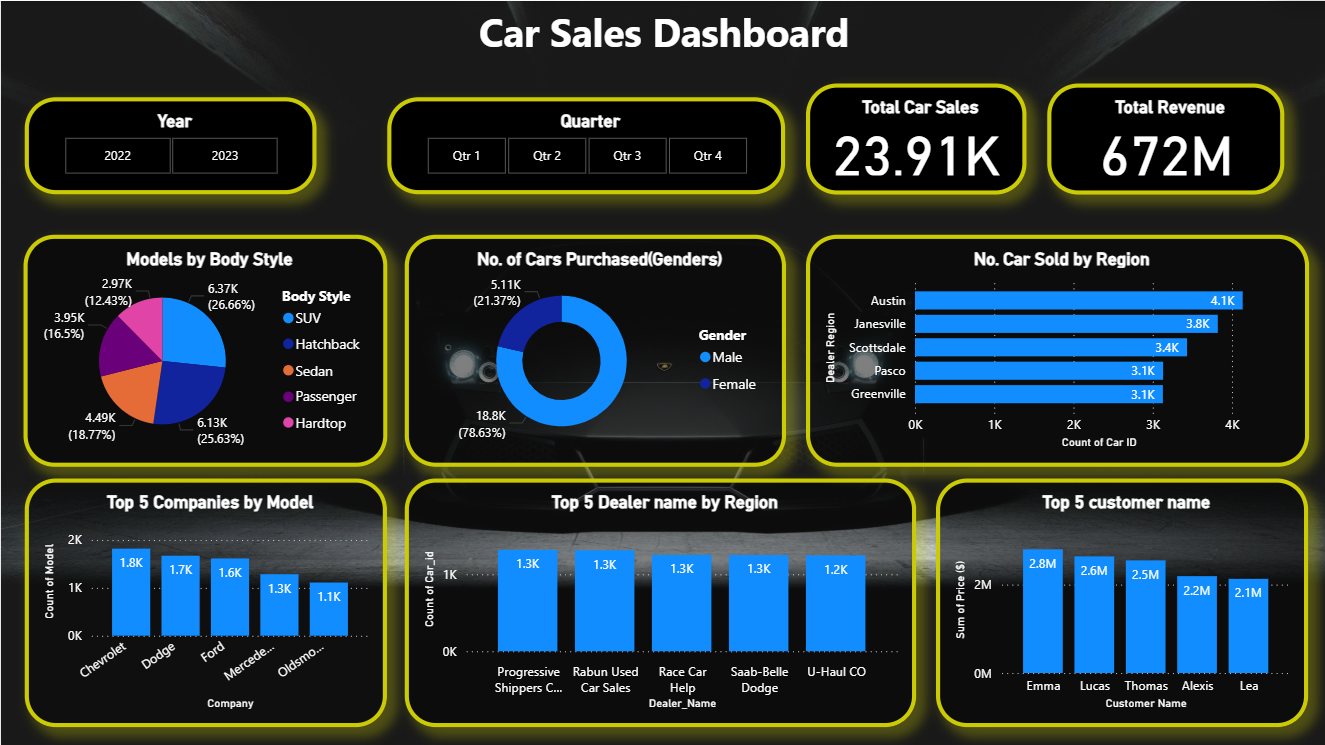

The page's visual inventory and layout, read from the dashboard file:
{"tool":"powerbi","page":{"name":"Page 1","canvas":[1280,720],"ordinal":0},"visuals":[{"type":"slicer","title":"Year","fields":{"Values":["car_data.Date.Variation.Date Hierarchy.Year"]},"box":[23.3,93.3,281.3,93.3],"z":0},{"type":"slicer","title":"Quarter","fields":{"Values":["car_data.Date.Variation.Date Hierarchy.Quarter"]},"box":[373.2,93.3,384.2,93.3],"z":1000},{"type":"pieChart","title":"Models by Body Style","fields":{"Category":["car_data.Body Style"],"Y":["car_data.Model"]},"box":[22,225,351.3,223.7],"z":2000},{"type":"donutChart","title":"No. of Cars Purchased(Genders)","fields":{"Category":["car_data.Gender"],"Y":["car_data.Gender"]},"box":[389.7,225,367.8,223.7],"z":3000},{"type":"clusteredColumnChart","title":"Top 5 Companies by Model","fields":{"Category":["car_data.Company"],"Y":["car_data.Model"]},"box":[23.3,461.1,349.9,240.1],"z":4000},{"type":"clusteredColumnChart","title":"Top 5 Dealer name by Region","fields":{"Category":["car_data.Dealer_Name"],"Y":["car_data.Car_id"]},"box":[389.7,461.1,494,240.1],"z":5000},{"type":"card","title":"Total Revenue","fields":{"Values":["car_data.Price ($)"]},"box":[1010,79.6,229.2,107],"z":6000},{"type":"card","title":"Total Car Sales","fields":{"Values":["car_data.Car_id"]},"box":[776.7,79.6,212.7,107],"z":7000},{"type":"barChart","title":"No. Car Sold by Region","fields":{"Category":["car_data.Dealer_Region"],"Y":["car_data.Car_id"]},"box":[776.7,225,485.8,223.7],"z":8000},{"type":"clusteredColumnChart","title":"Top 5 customer name","fields":{"Category":["car_data.Customer Name"],"Y":["car_data.Price ($)"]},"box":[902.9,461.1,359.5,240.1],"z":9000},{"type":"textbox","box":[0,0,1280,67.5],"z":10000}]}

Visuals, with their boxes in screenshot pixels (x1, y1, x2, y2), scaled from the page's 1280x720 canvas onto the 1325x745 screenshot:
"Year" slicer: 24 97 315 193
"Quarter" slicer: 386 97 784 193
"Models by Body Style" pieChart: 23 233 386 464
"No. of Cars Purchased(Genders)" donutChart: 403 233 784 464
"Top 5 Companies by Model" clusteredColumnChart: 24 477 386 726
"Top 5 Dealer name by Region" clusteredColumnChart: 403 477 915 726
"Total Revenue" card: 1046 82 1283 193
"Total Car Sales" card: 804 82 1024 193
"No. Car Sold by Region" barChart: 804 233 1307 464
"Top 5 customer name" clusteredColumnChart: 935 477 1307 726
textbox: 0 0 1324 70
